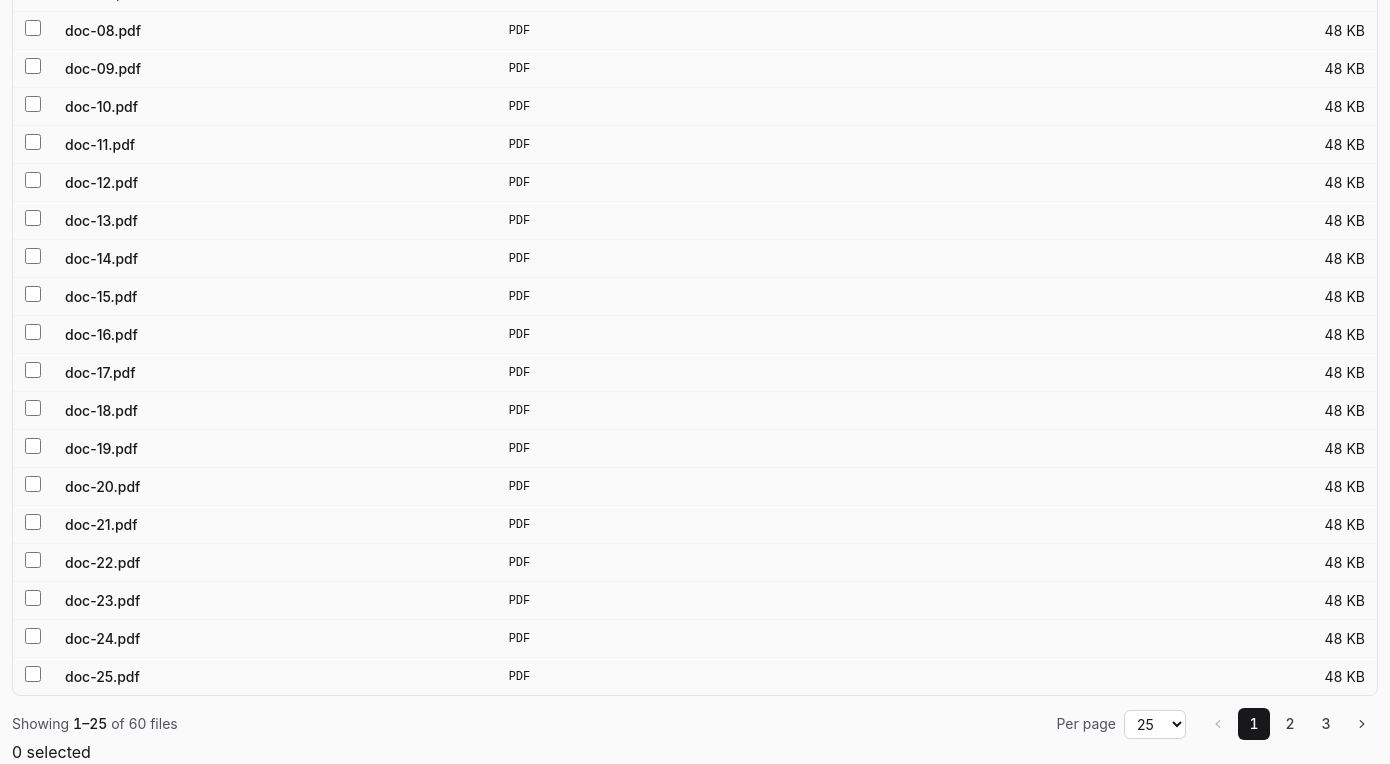
it: FileTable › keeps the first visible file on screen when the page size changes
(page scrolled)
Click the button named "Page 2": (1290, 724) [1274, 708, 1306, 740]
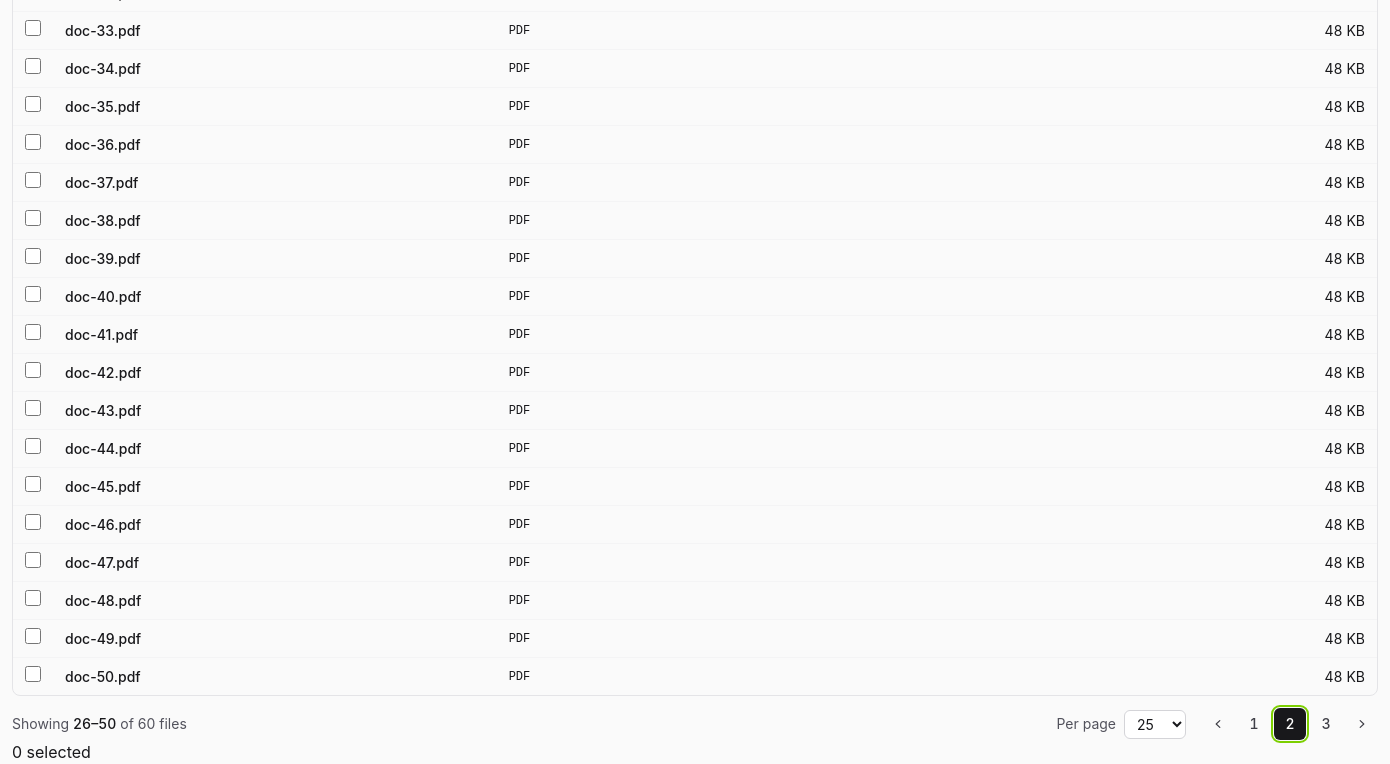
Select "50" in the dropdown labelled "Per page": (1155, 724) [1124, 710, 1186, 738]
(page scrolled)
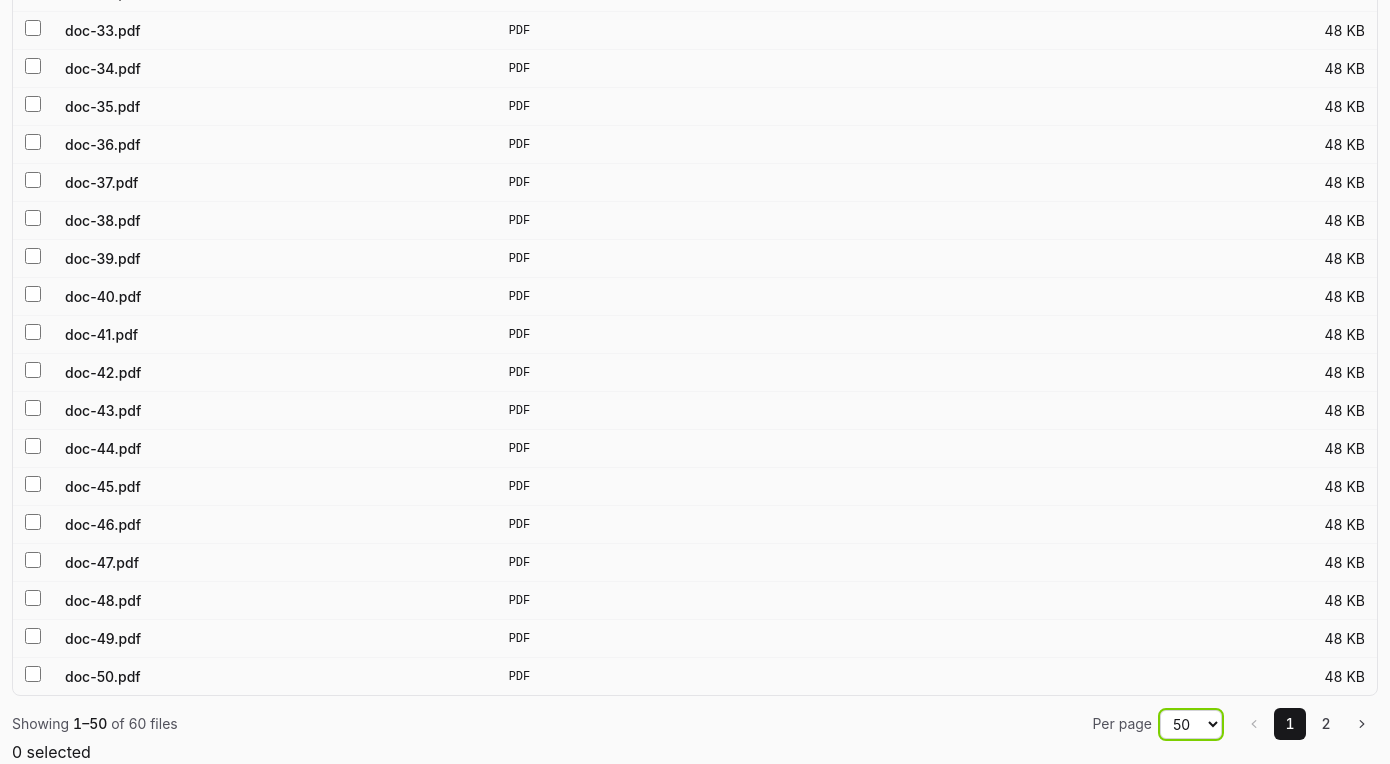
Expected: the text "Showing 1–50 of 60 files" is shown, [12, 714, 178, 734]
